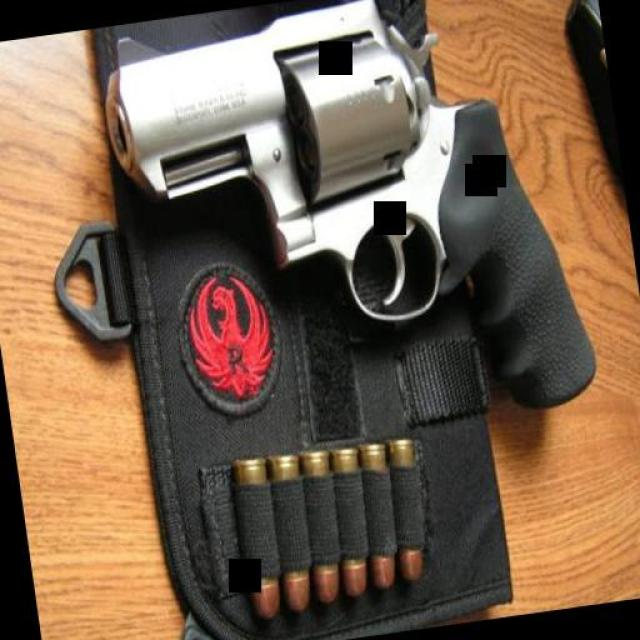gun: (87, 0, 602, 465)
